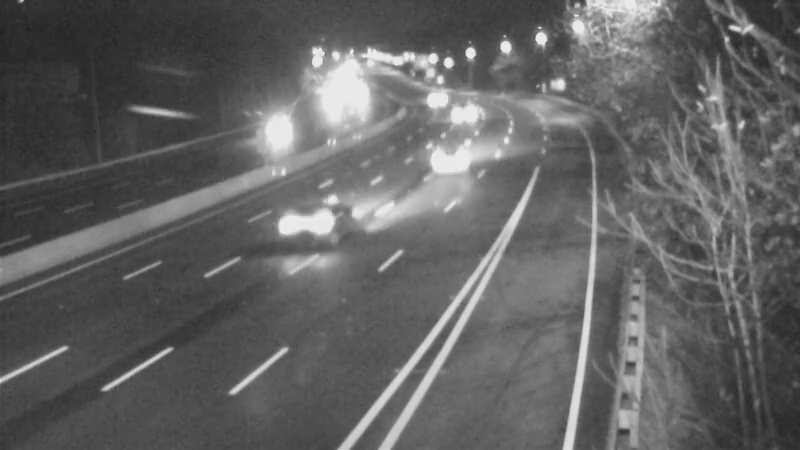vehicle: (413, 125, 493, 205), (251, 181, 331, 261), (408, 71, 458, 121), (435, 87, 485, 137), (253, 112, 303, 162)
